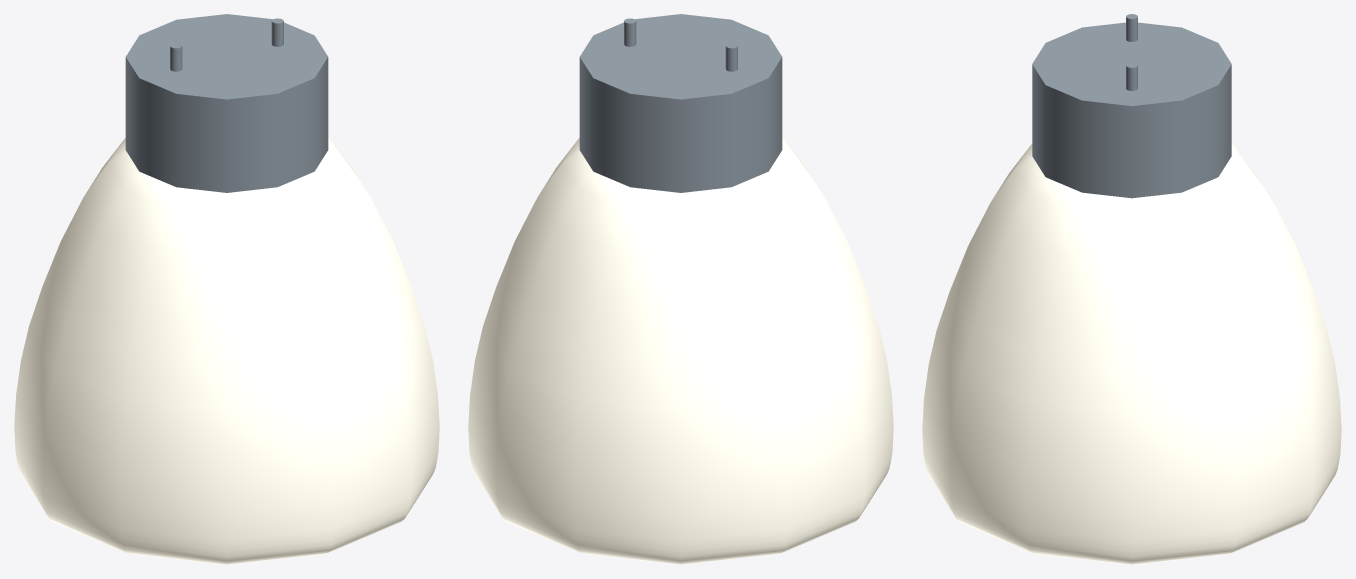
The model's file is source.glb.
The picture shows the model from 3 angles, left to right: view 1: azimuth 30°, elevation 25°; view 2: azimuth 150°, elevation 25°; view 3: azimuth 270°, elevation 25°; orthographic projection.
Parts seen in each view (by area): view 1: Emitters, 机加工金属; view 2: Emitters, 机加工金属; view 3: Emitters, 机加工金属.
Part boxes in pixels (x1=…): Emitters: x1=14, y1=138, x2=439, y2=564; 机加工金属: x1=125, y1=14, x2=328, y2=192; Emitters: x1=468, y1=138, x2=893, y2=564; 机加工金属: x1=579, y1=14, x2=782, y2=192; Emitters: x1=922, y1=144, x2=1341, y2=564; 机加工金属: x1=1032, y1=14, x2=1231, y2=198.
Size of the model in its own units: 0.0454 by 0.0536 by 0.0454.
